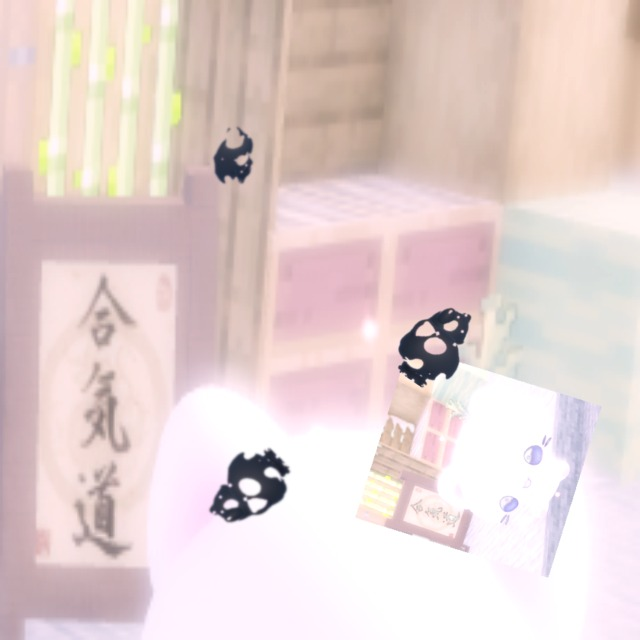urso_branco: (355, 346, 602, 578)
urso_preto: (187, 431, 304, 548), (383, 284, 495, 402), (196, 113, 272, 201)
